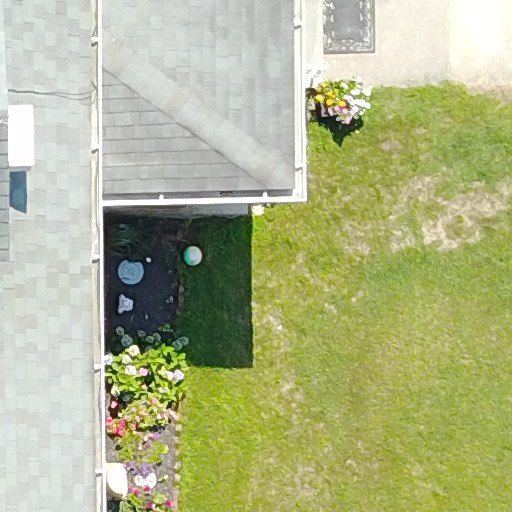container: (111, 257, 147, 290), (174, 244, 209, 271)
